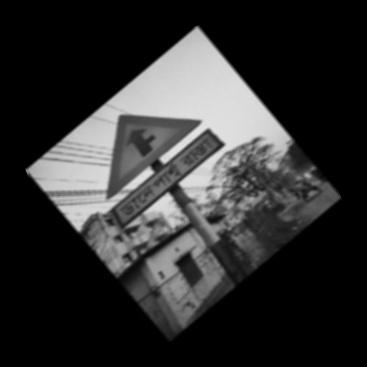Side-road-right: (106, 115, 226, 260)
